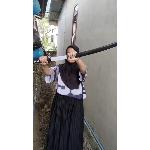Pedang: (33, 40, 117, 64)
